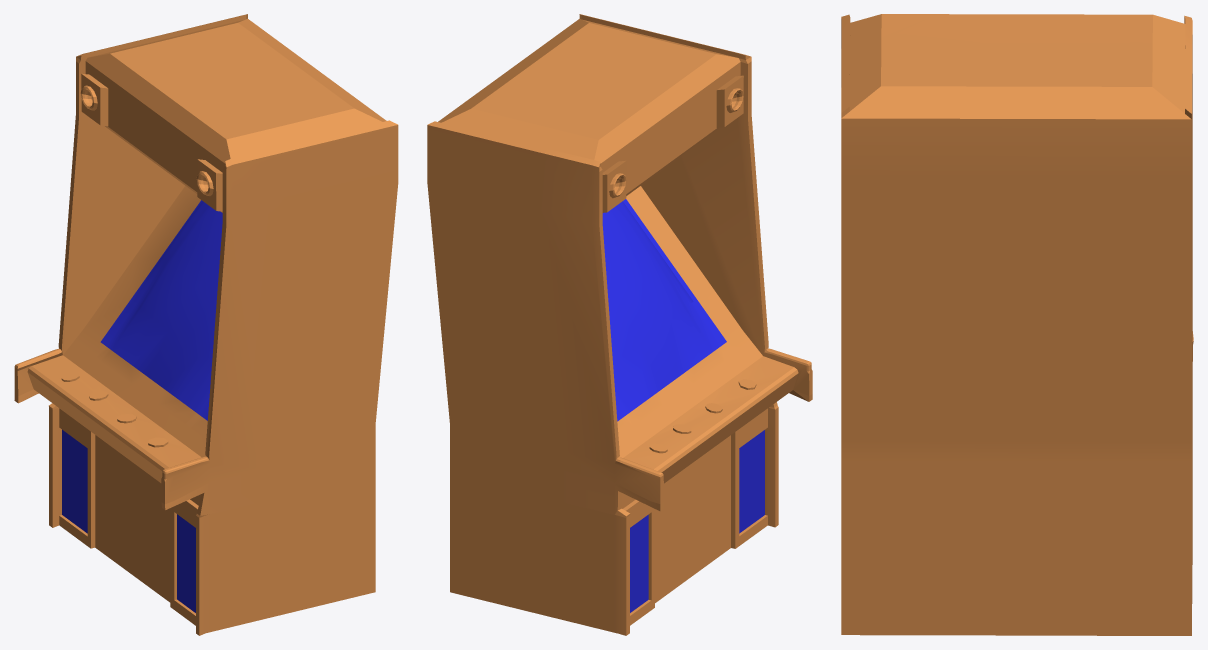
File: ArcadeSpeakerMain.fbx
The picture shows the model from 3 angles, left to right: view 1: azimuth 30°, elevation 25°; view 2: azimuth 150°, elevation 25°; view 3: azimuth 270°, elevation 25°; orthographic projection. The views are drawn at different scales.
Visible parts, largest first — view 1: Level02; view 2: Level02; view 3: Level02.
Part boxes in pixels (x1,y1,x2,y2): Level02: [14, 14, 398, 635]; Level02: [427, 14, 812, 635]; Level02: [841, 14, 1193, 635].
Size of the model in its own units: 190 by 366 by 213.
